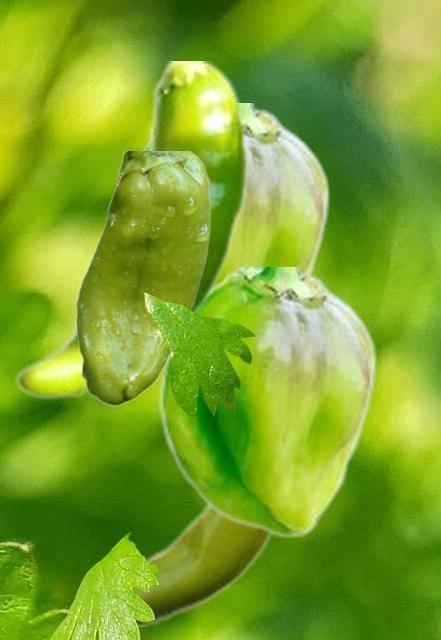green_chili: (13, 61, 249, 400), (159, 267, 377, 538), (137, 103, 330, 280), (75, 151, 209, 405), (133, 502, 275, 625)
